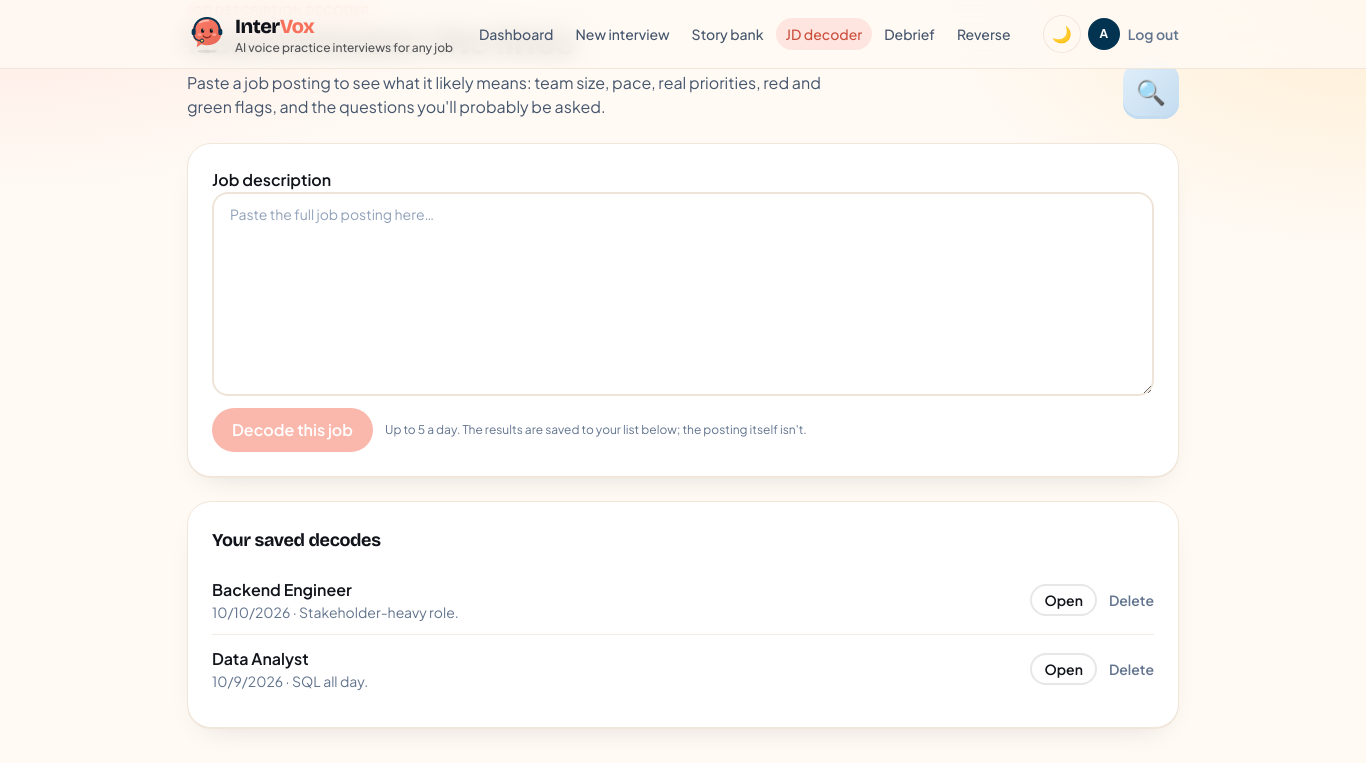
it: job description decoder › lists saved decodes to reopen or delete
(page scrolled)
Expected: the heading "Your saved decodes" is shown, 212,529 -> 381,551
Click the button with aria-label "Delete Data Analyst" at coordinates (1131, 669), box 1109,659 -> 1154,679
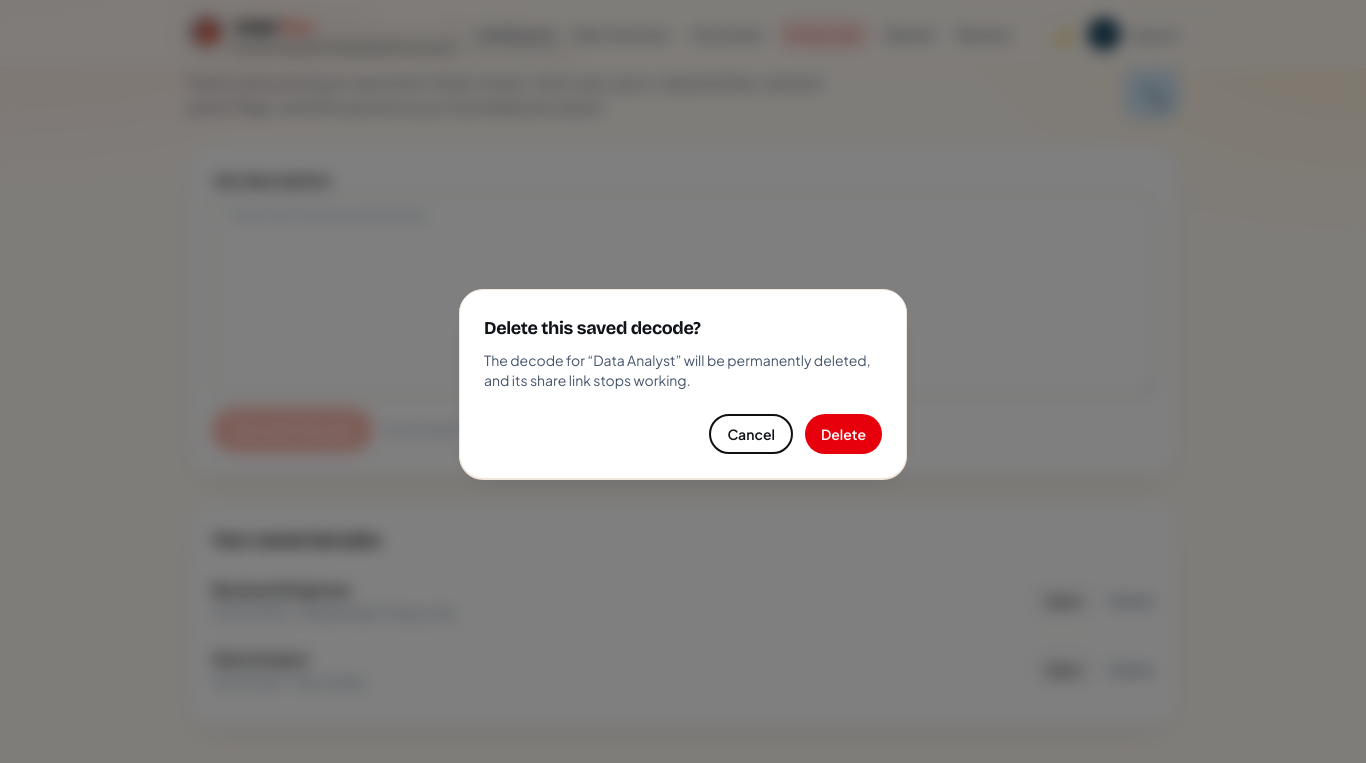
Click the button "Delete" at coordinates (843, 434), box 805,414 -> 882,454
(page scrolled)
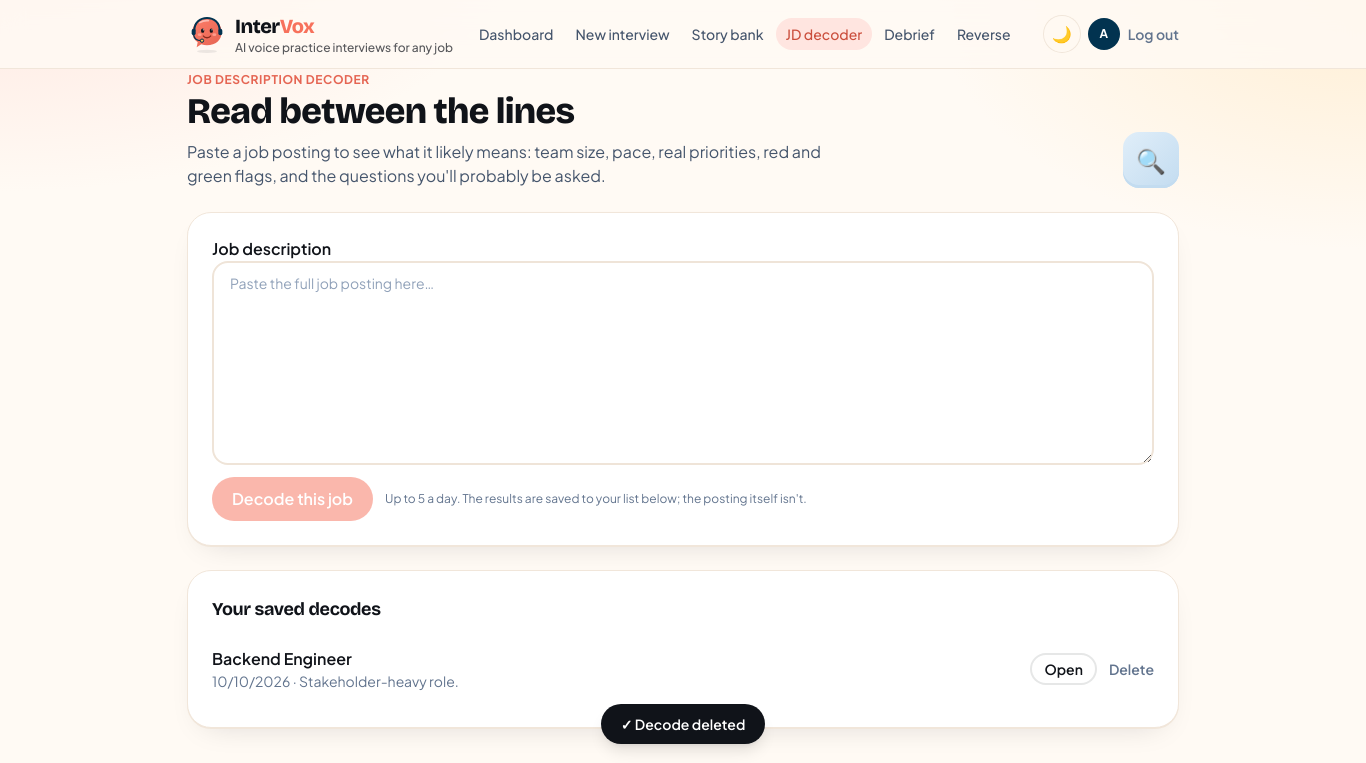
Expected: the link "Data Analyst" is gone
Click the link "Open" at coordinates (1064, 669), box 1030,653 -> 1097,685
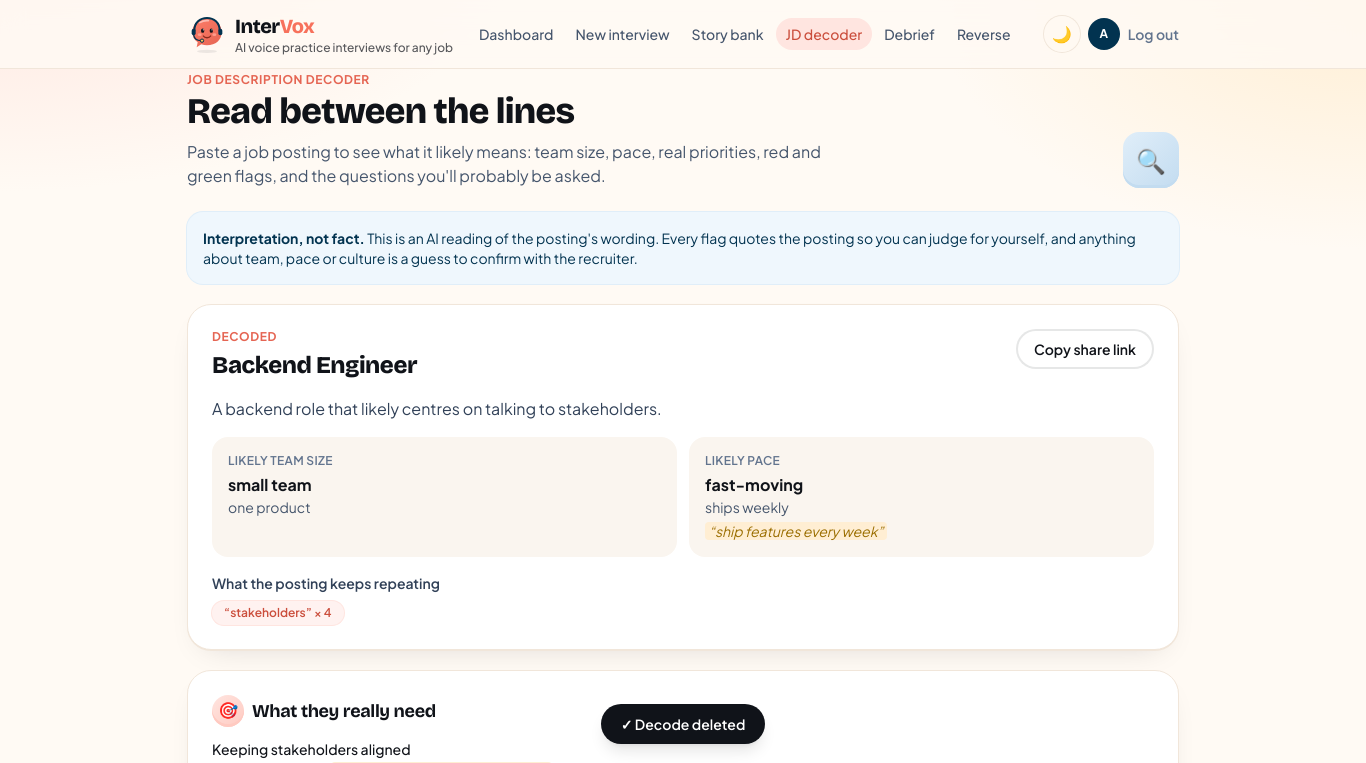
Expected: the text "Interpretation, not fact." is shown, 203,229 -> 365,247
Expected: the text "Keeping stakeholders aligned" is shown, 212,740 -> 411,758
